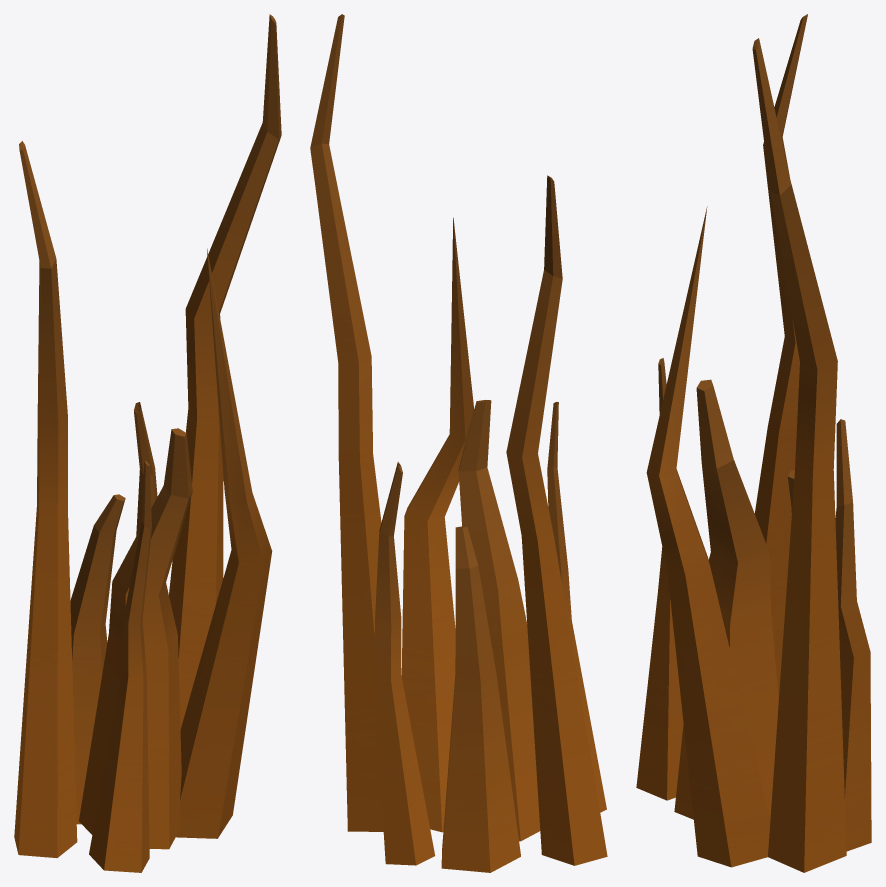
The model's file is hierba15.fbx.
The picture shows the model from 3 angles, left to right: view 1: azimuth 30°, elevation 25°; view 2: azimuth 150°, elevation 25°; view 3: azimuth 270°, elevation 25°; orthographic projection. The views are drawn at different scales.
Parts seen in each view (by area): view 1: hierba15; view 2: hierba15; view 3: hierba15.
Part boxes in pixels (x1,y1,x2,y2): hierba15: [14, 14, 281, 872]; hierba15: [310, 14, 607, 872]; hierba15: [636, 14, 871, 872].
Bounding box in the file's own units: 166 × 447 × 111.
